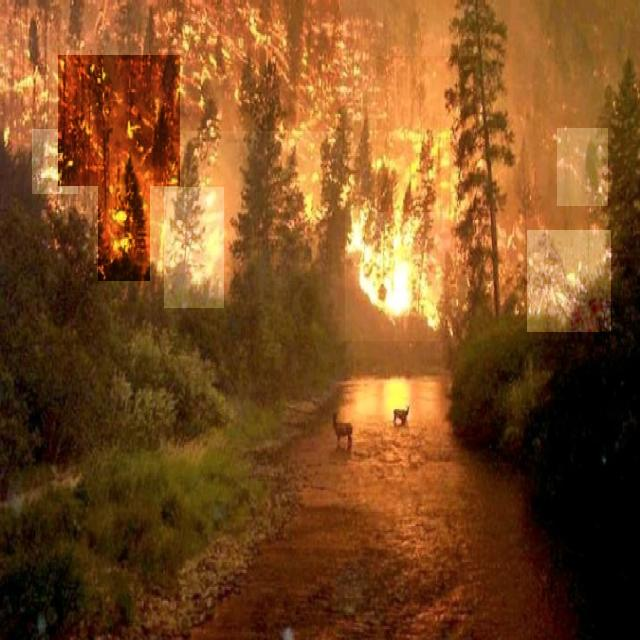Fire: (149, 0, 341, 131), (58, 55, 180, 186), (376, 56, 476, 212), (345, 210, 445, 341), (527, 230, 611, 332), (164, 187, 224, 308), (98, 186, 150, 281), (557, 128, 608, 206), (32, 129, 78, 194), (10, 56, 52, 115)
